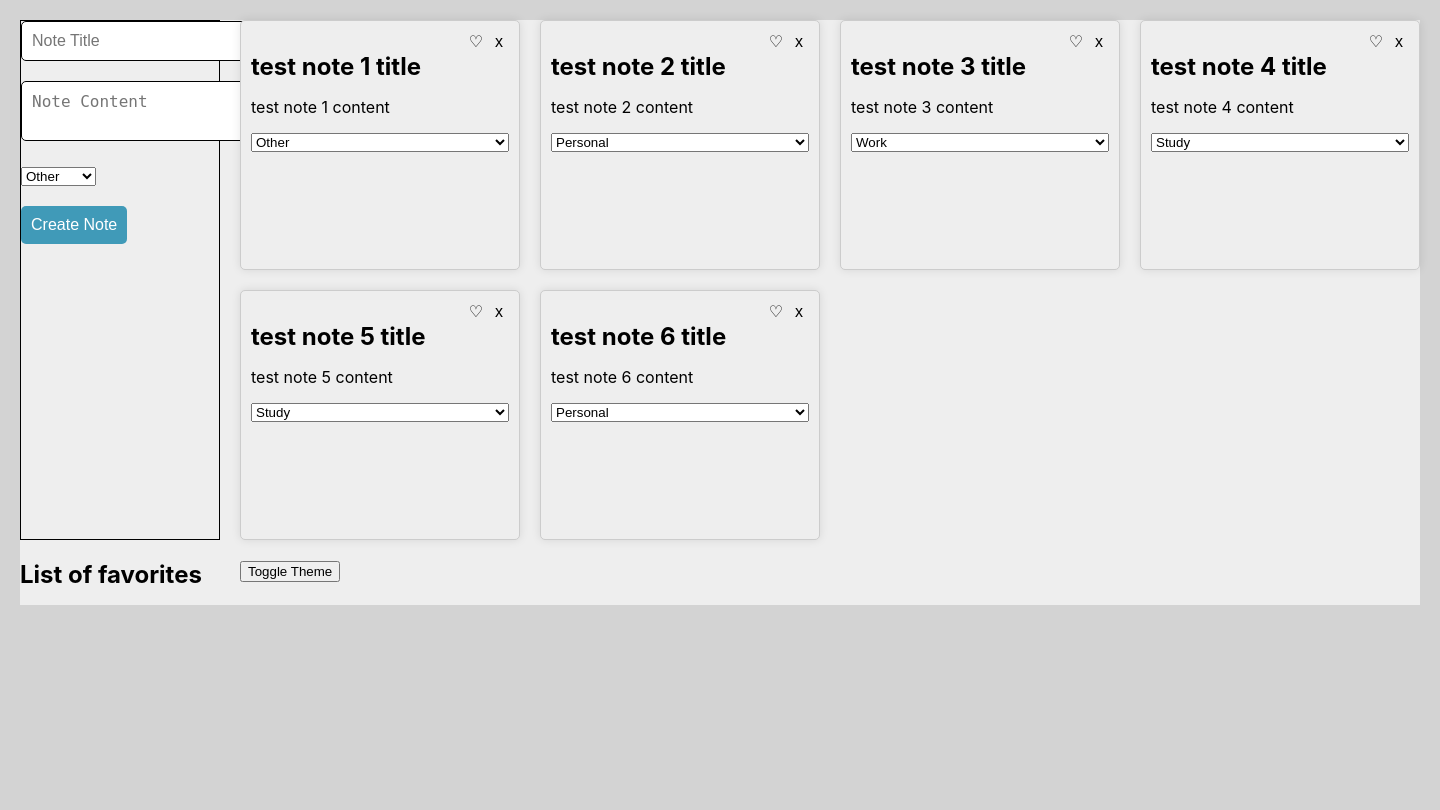
Test case: Update StickyNote › updating note test
Step 1. Type "test title 1" into the field with placeholder "Note Title" → [136, 41], box x1=21 y1=21 x2=250 y2=61
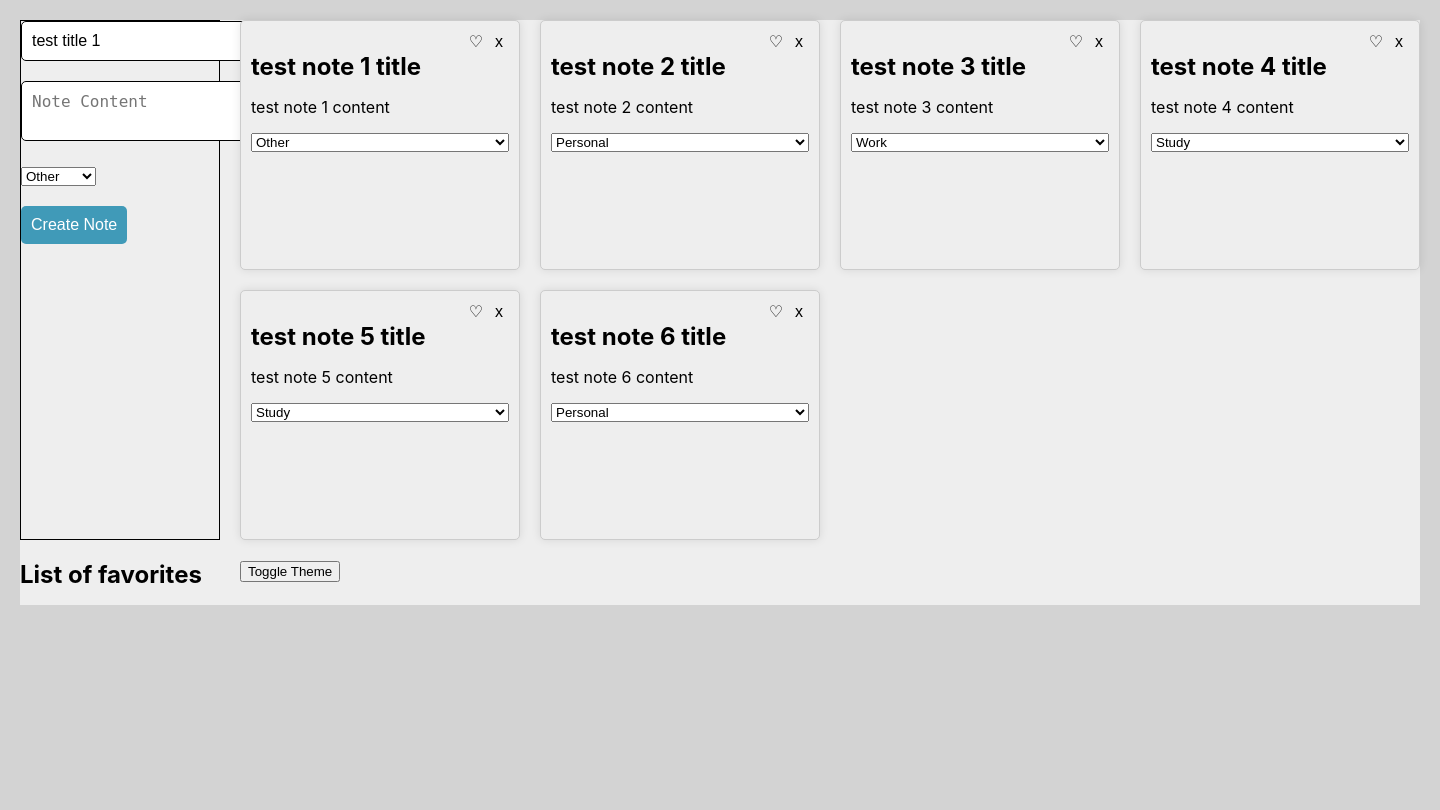
Step 2. Type "content test 1" into the text box with placeholder "Note Content" → [140, 111], box x1=21 y1=81 x2=258 y2=141
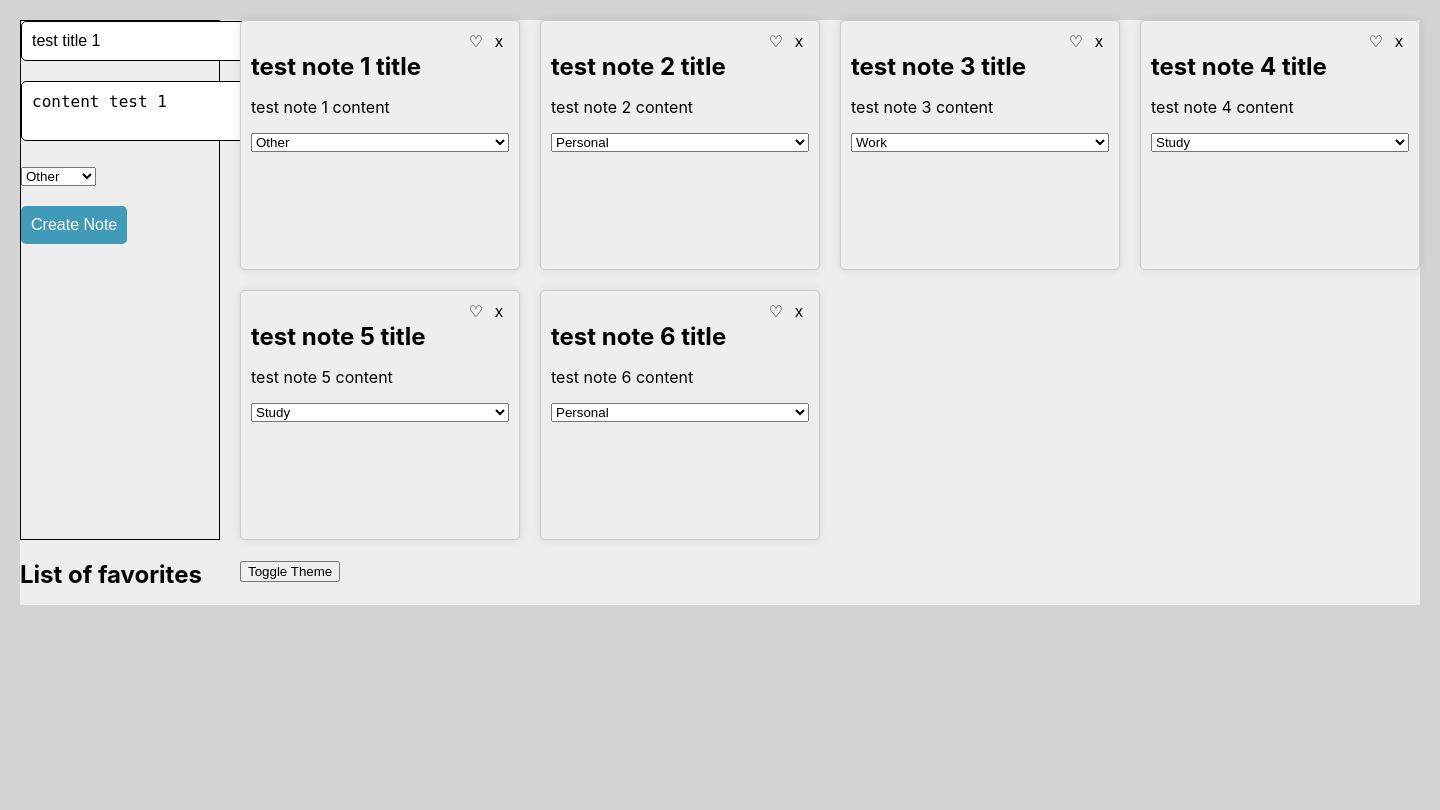
Step 3. Click the button "Create Note" → [74, 225], box x1=21 y1=206 x2=127 y2=244
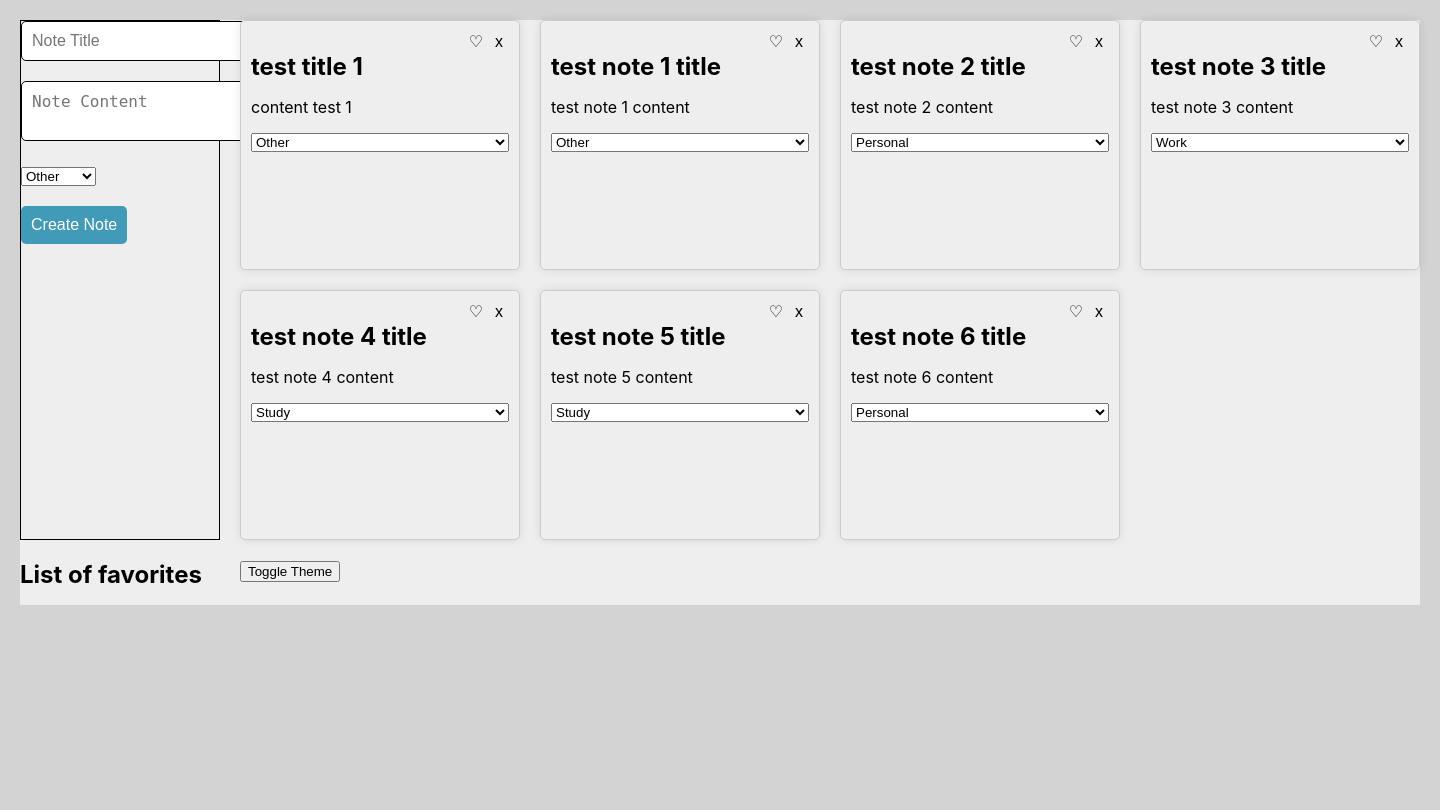
Step 4. Leave the heading with test id "note-title-1", box x1=551 y1=52 x2=721 y2=81
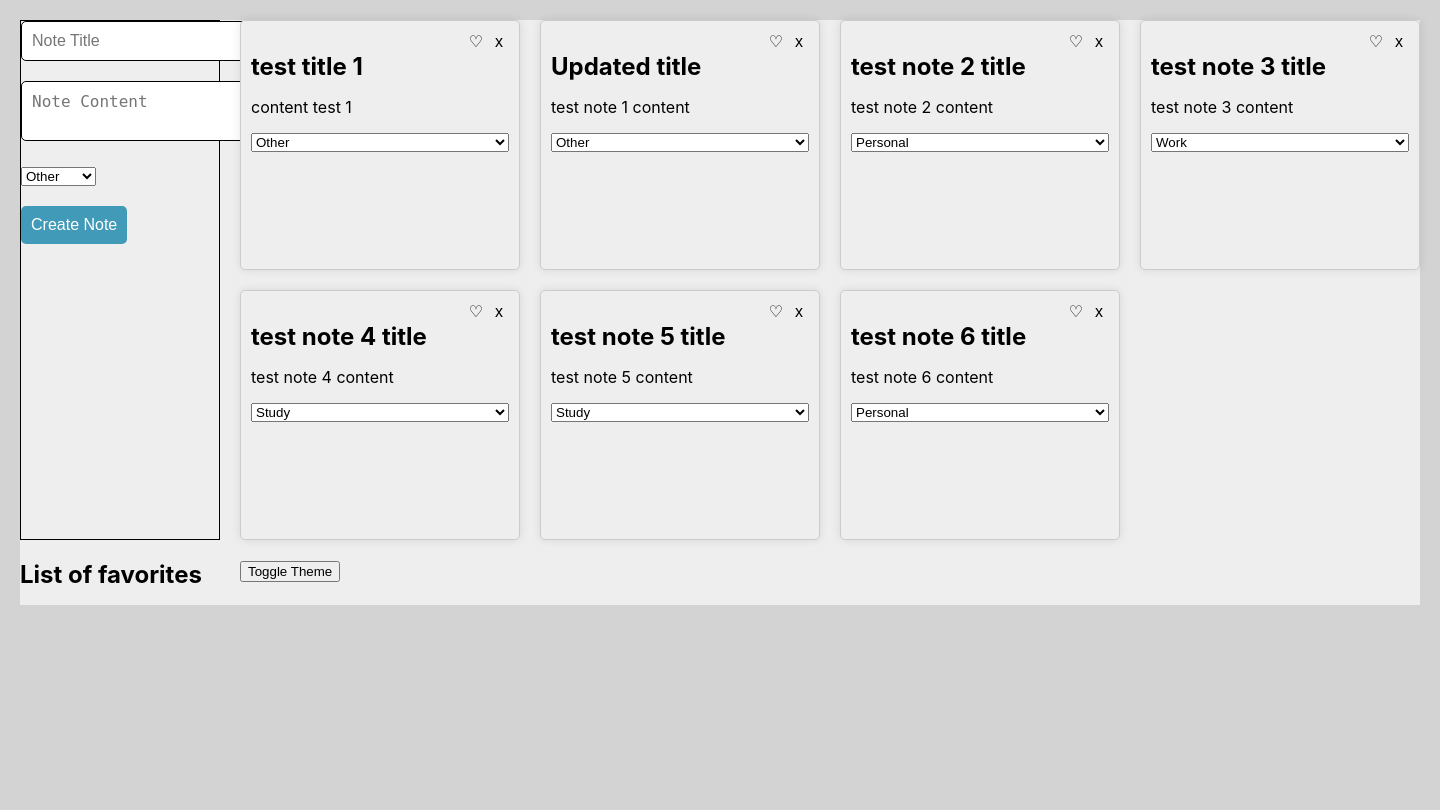
Step 5. Leave the text box with test id "note-content-1", box x1=551 y1=97 x2=690 y2=117
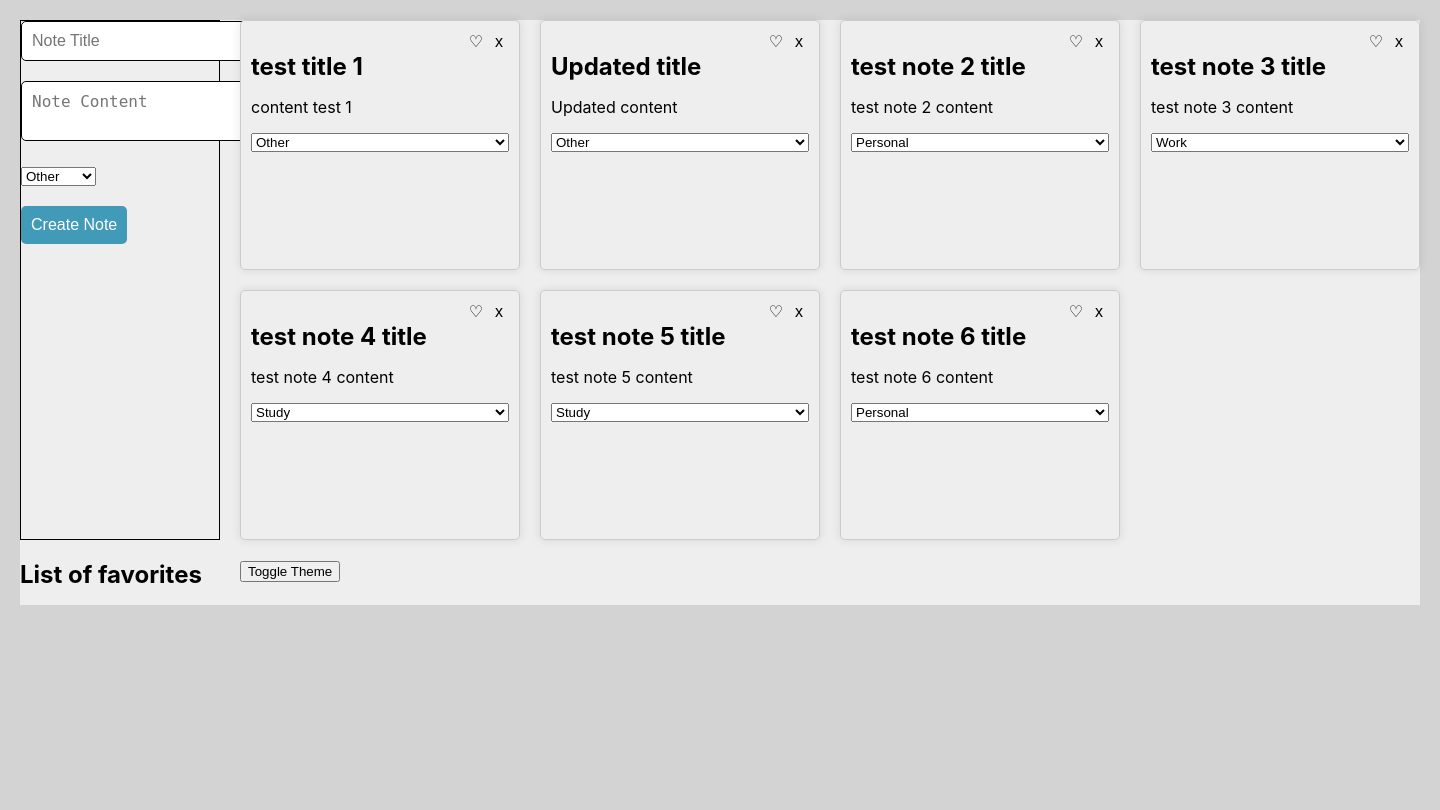
expect the heading with test id "note-title-1" reads "Updated title": met, box x1=551 y1=52 x2=701 y2=81
expect the text box with test id "note-content-1" reads "Updated content": met, box x1=551 y1=97 x2=678 y2=117
